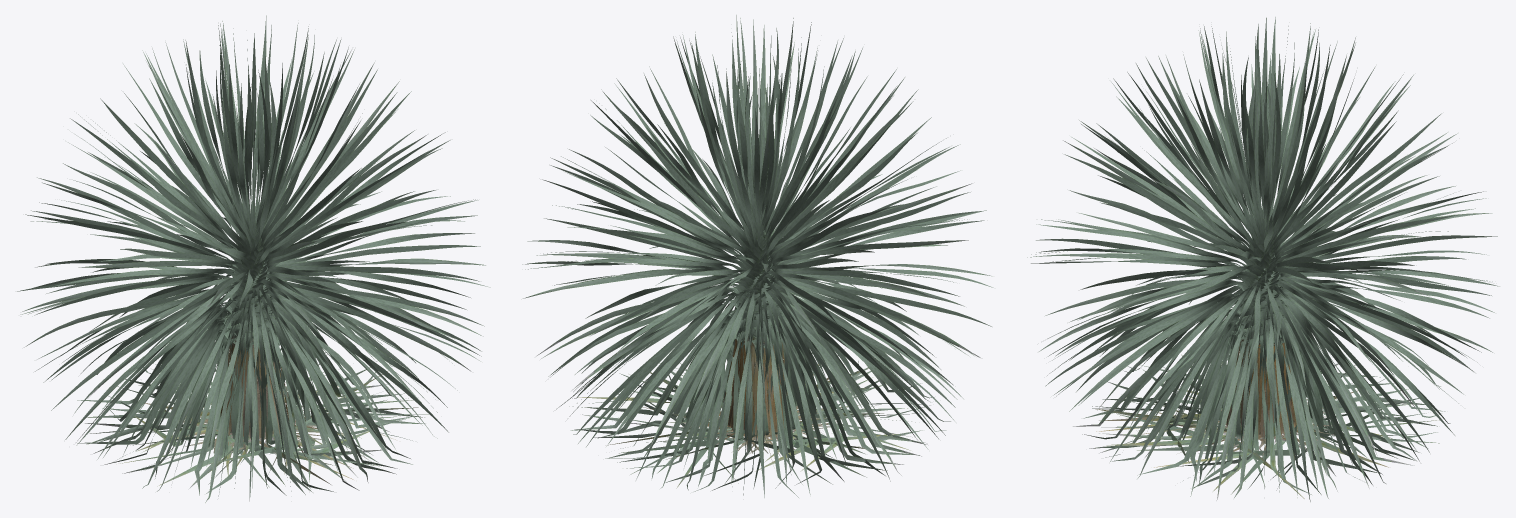
The model's file is beaked_yucca_1730.glb.
3 views of the same model, side by side, from view 1: azimuth 30°, elevation 25°; view 2: azimuth 150°, elevation 25°; view 3: azimuth 270°, elevation 25° (orthographic).
Parts seen in each view (by area): view 1: Yucca_rostrata_HD; view 2: Yucca_rostrata_HD; view 3: Yucca_rostrata_HD.
Part boxes in pixels (x1,y1,x2,y2): Yucca_rostrata_HD: (17, 15, 490, 502); Yucca_rostrata_HD: (522, 15, 993, 497); Yucca_rostrata_HD: (1027, 17, 1499, 501).
Bounding box in the file's own units: 1.26 × 1.14 × 1.26.
Materials: 14 (14 with a texture image).
